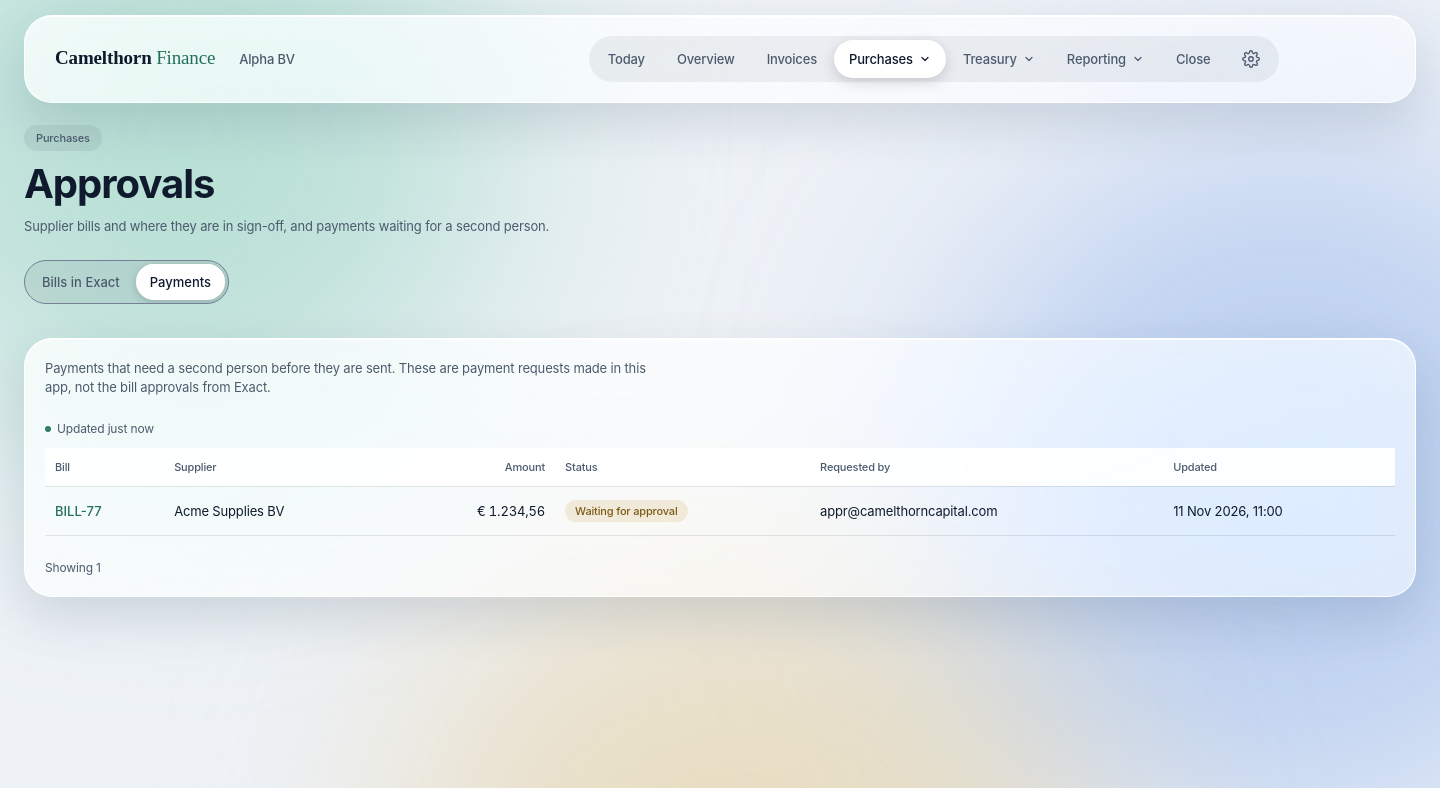
Test: approving a payment › offers no buttons on one's own request
The width and height of the screenshot is (1440, 788).
Click the button "BILL-77".
click(78, 511)  # box left=55, top=499, right=102, bottom=523
(page scrolled)
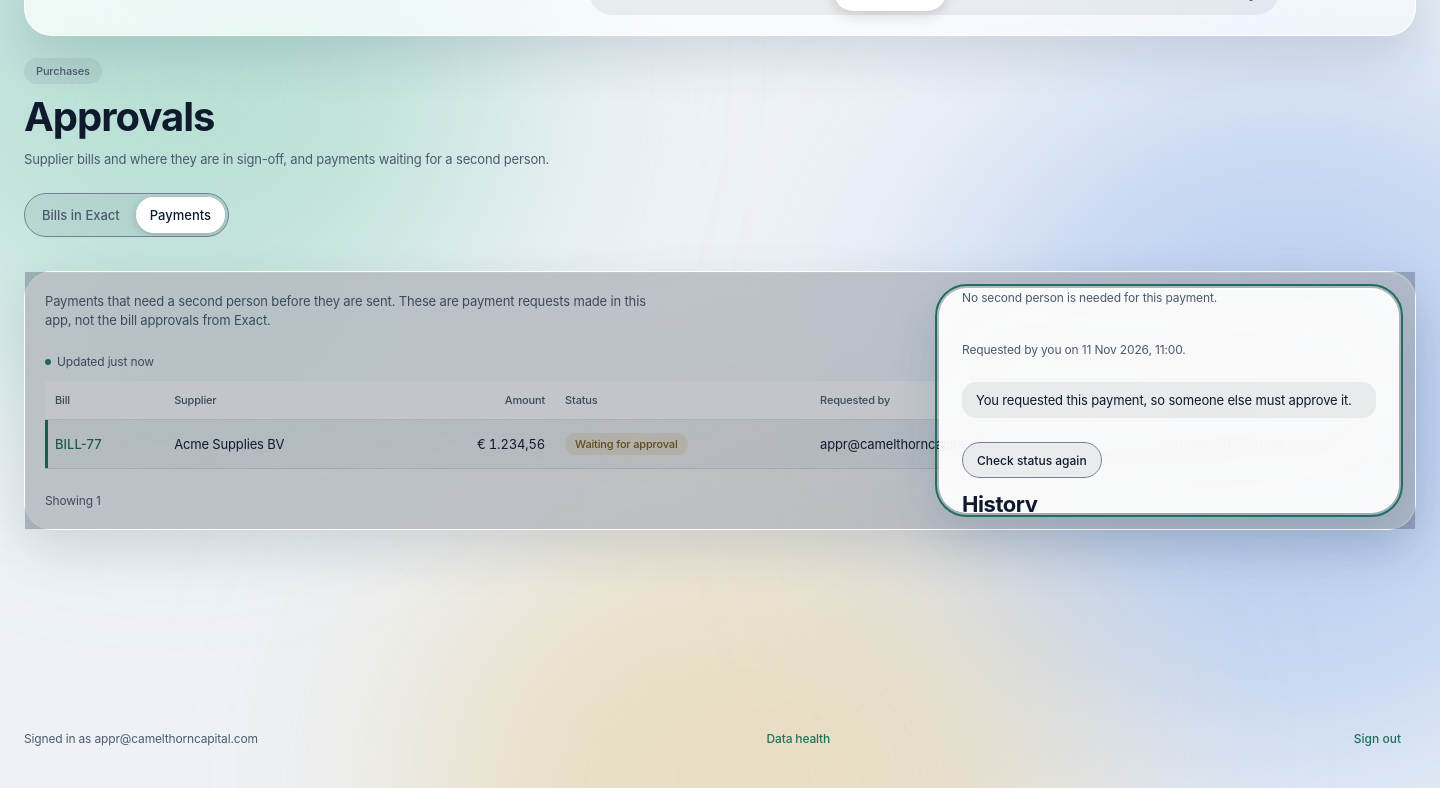
Check: the text "You requested this payment, so someone else must approve it." is shown, box left=962, top=382, right=1376, bottom=418
